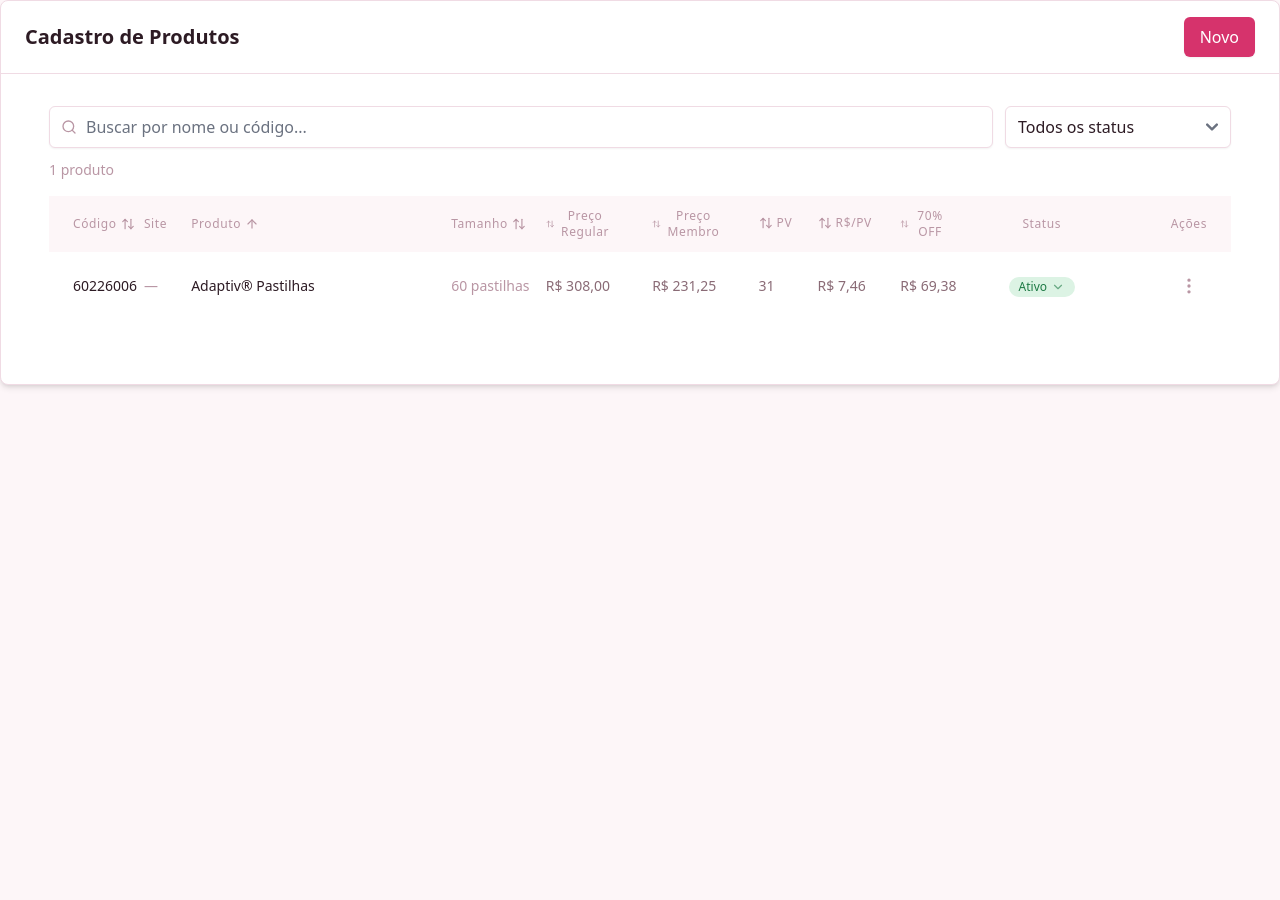
Test: Product usage modal › opens the usage panel and lists order/sale references with a navigation action
This screenshot has width=1280, height=900.
expect the button "Adaptiv® Pastilhas" is shown: met, box [191,276,315,296]
Click the button with test id "product-actions-1-trigger" at (1189, 286), box [1171,268,1207,304]
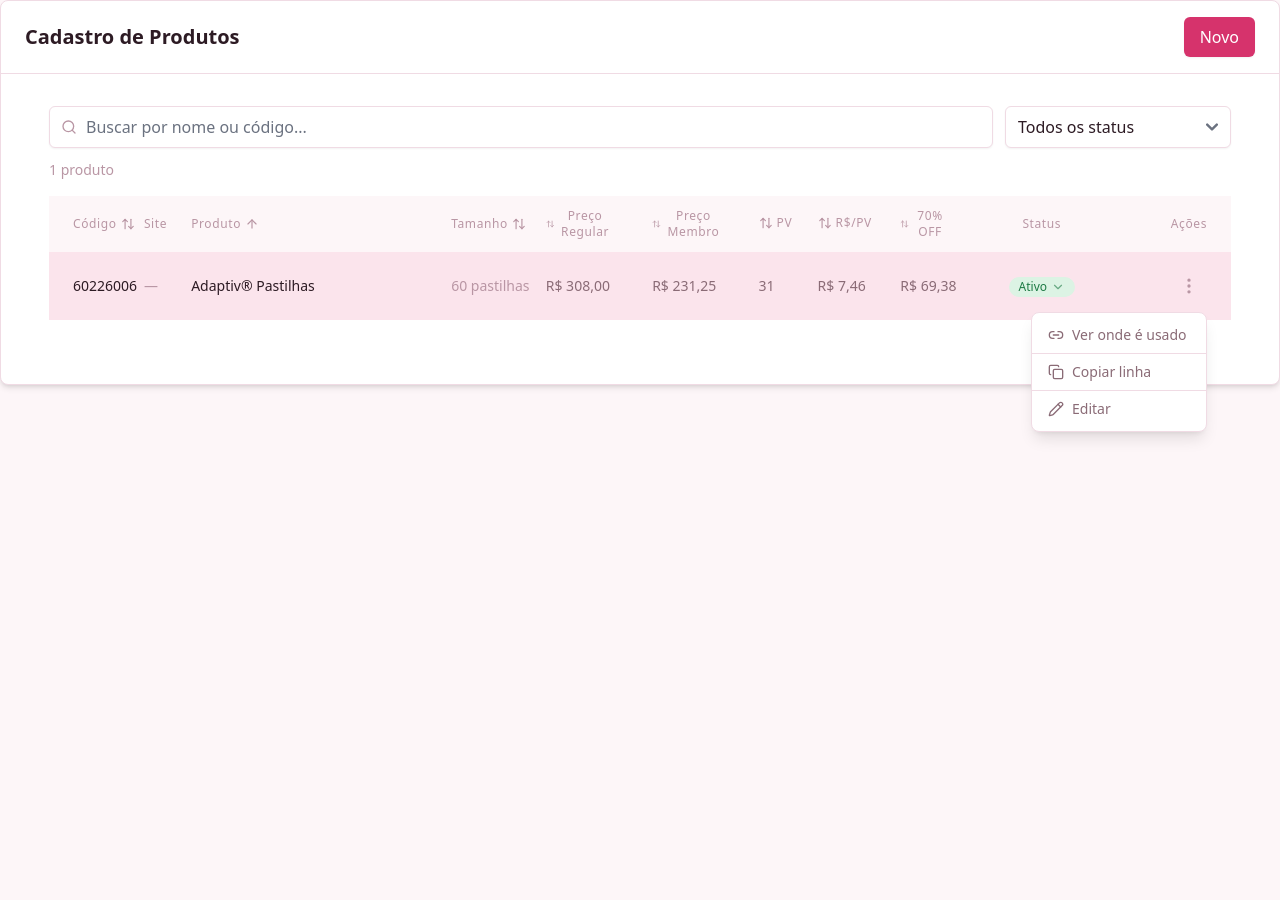
Click the menu item with test id "product-actions-1-item-Ver-onde-e-usado" at (1119, 335), box [1032,317,1206,353]
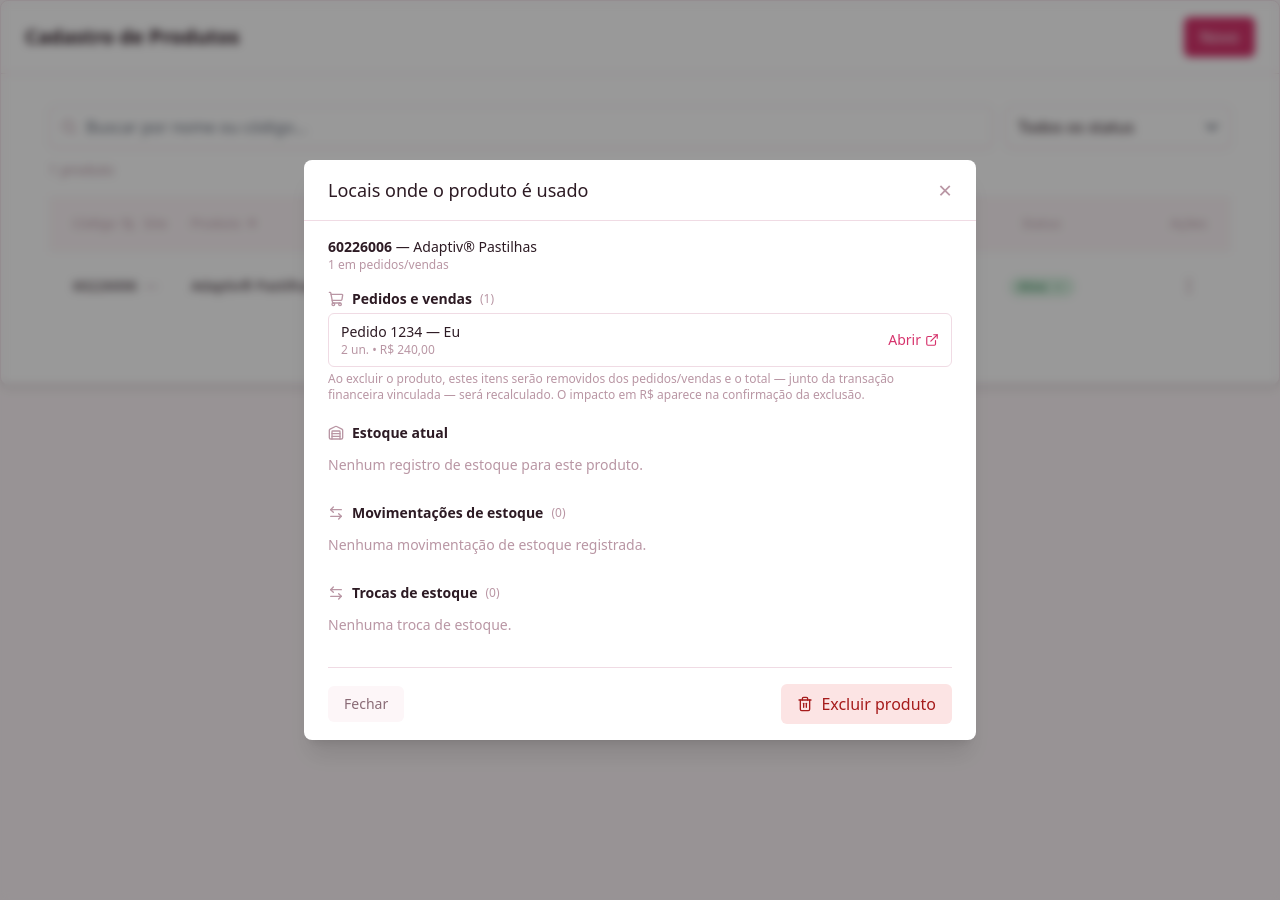
expect the element with test id "product-usage-modal" is shown: met
expect the text "Pedido 1234 — Eu" is shown: met, box [341,322,460,342]
expect the button "Abrir" is shown: met, box [888,330,939,350]
